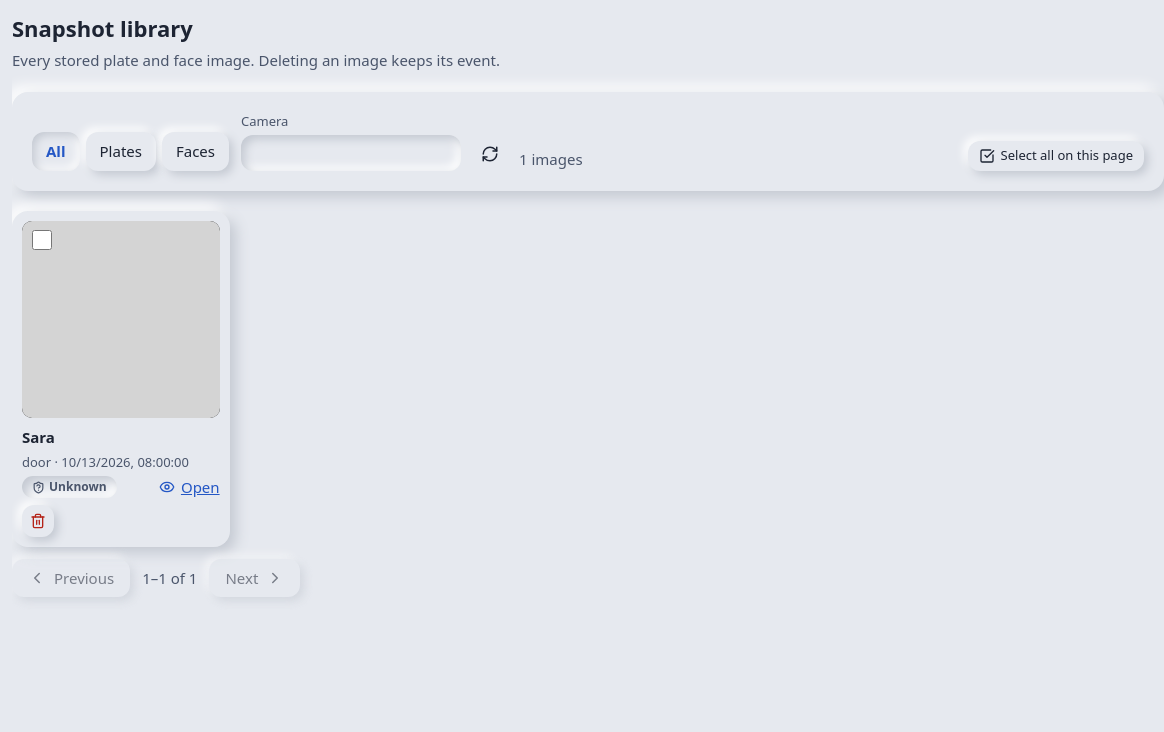
Test case: Library › deletes a selected snapshot after a second confirming press
Click the checkbox named "Select Sara" at [42, 240], box [32, 230, 52, 250]
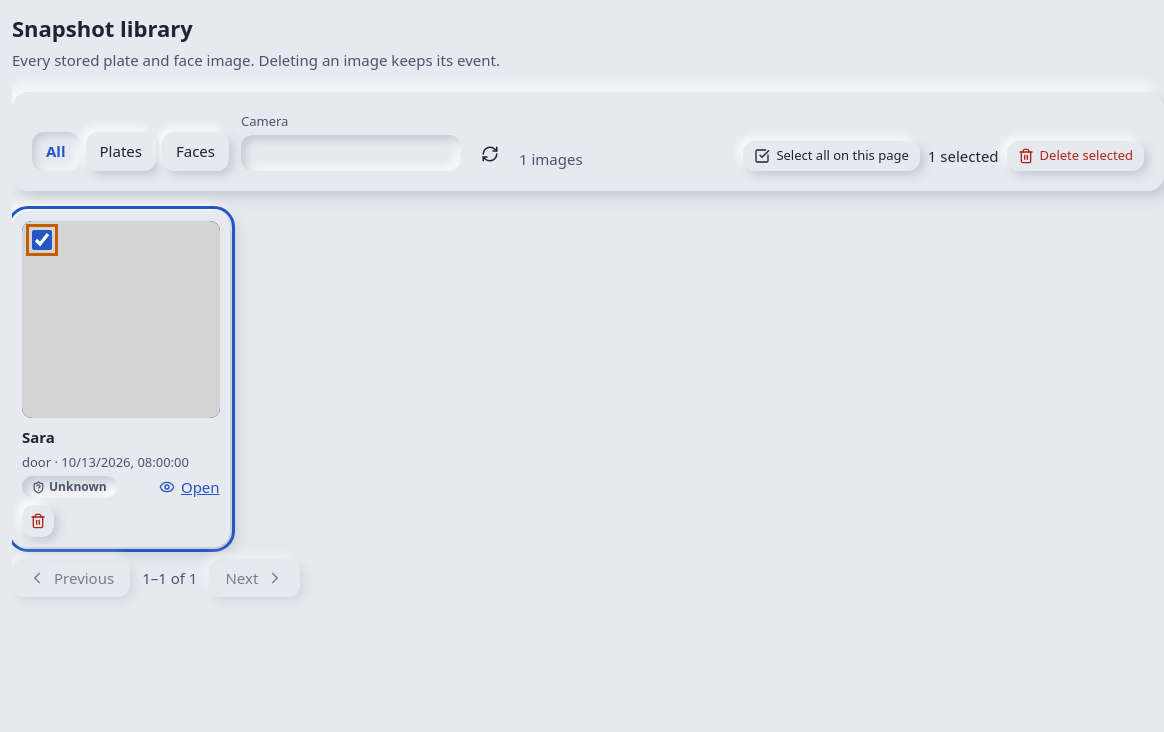
Click the button "Delete selected" at [1075, 156], box [1007, 141, 1144, 170]
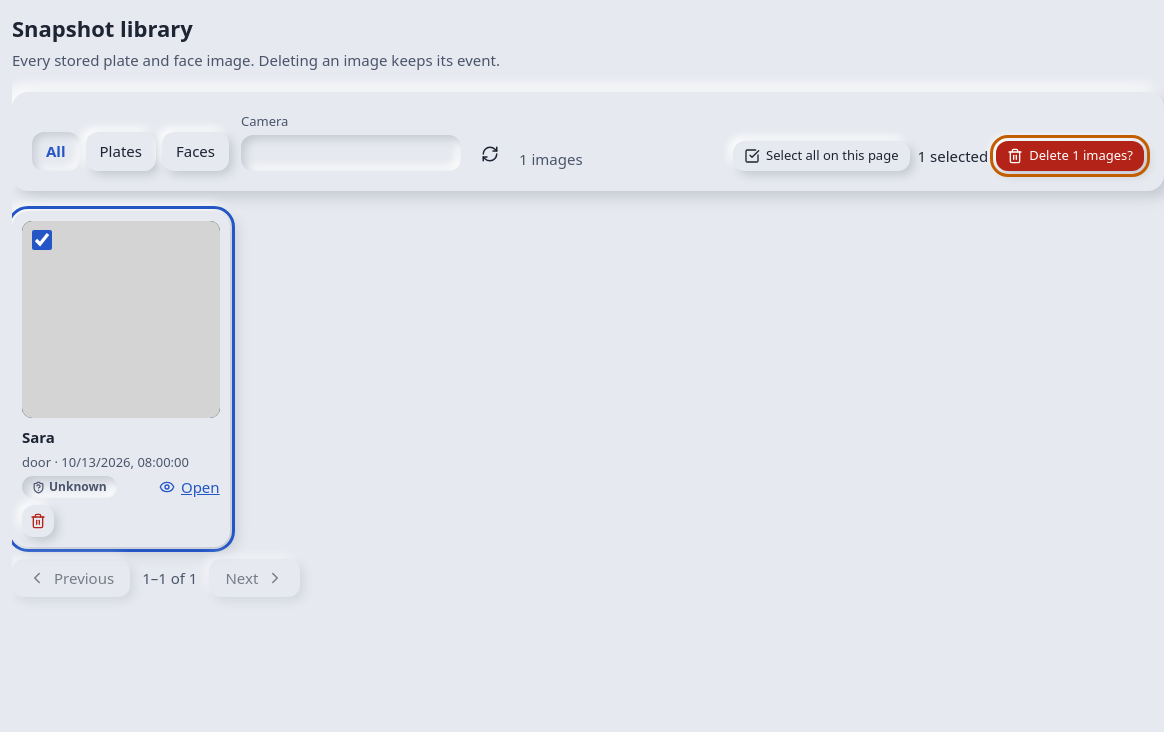
Click the button "Delete 1 images?" at [1070, 156], box [996, 141, 1144, 170]
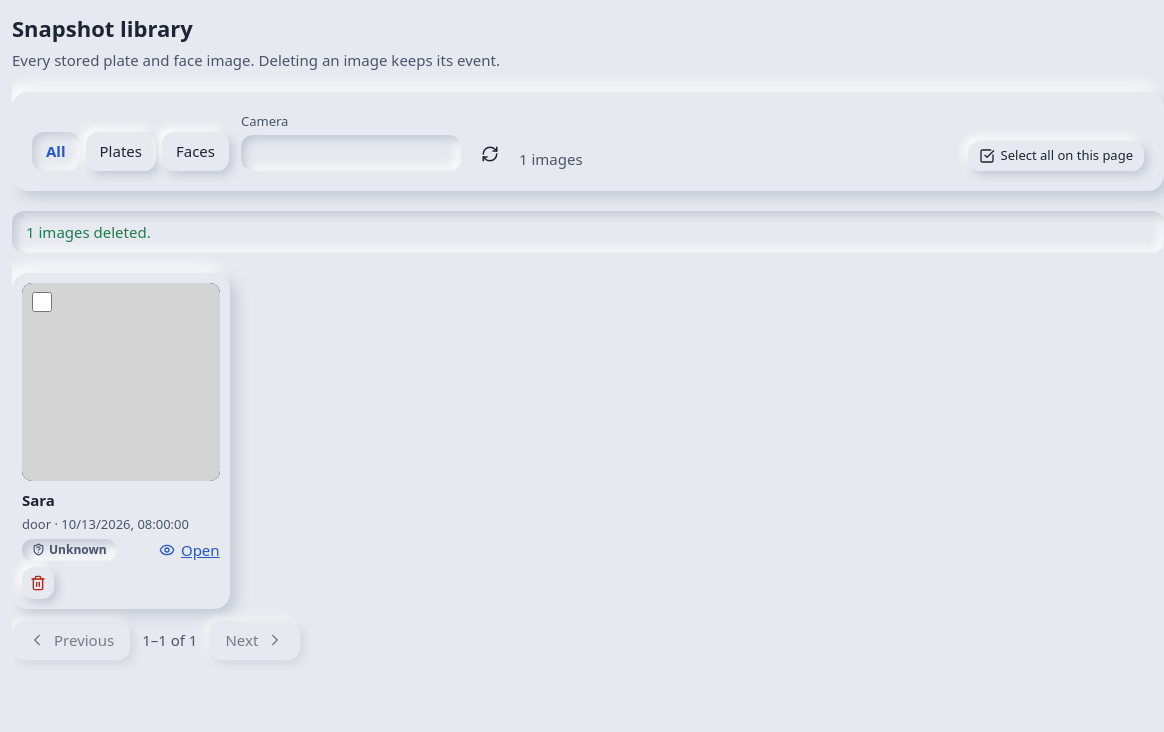
Now the message reads "1 images deleted.", box [26, 222, 151, 242]
